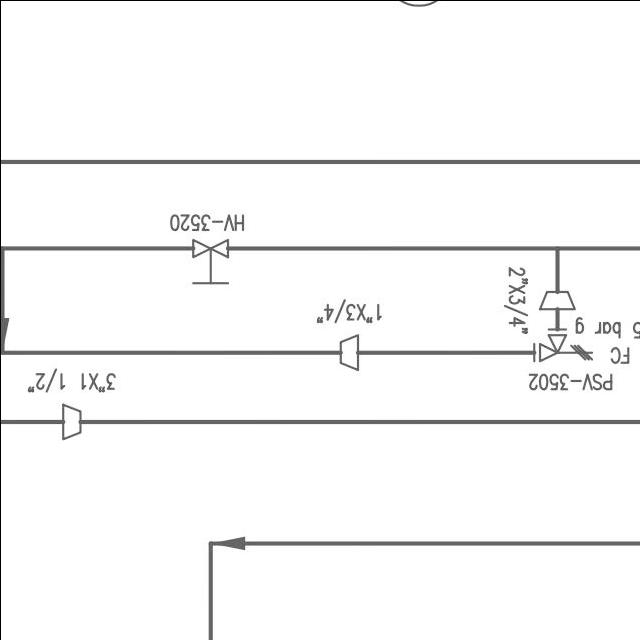HVWT: (186, 235, 234, 289)
RPV: (524, 324, 598, 364)
SP: (335, 330, 363, 376), (58, 402, 86, 442), (536, 288, 578, 313)
